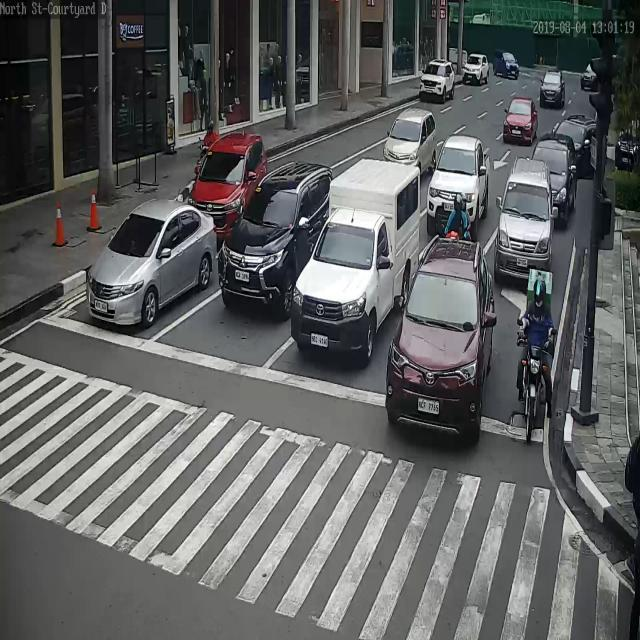car: (386, 236, 494, 433), (219, 165, 334, 318), (87, 201, 218, 331), (183, 132, 268, 241), (491, 157, 556, 283), (428, 135, 490, 218), (531, 135, 578, 210), (384, 109, 437, 174), (554, 115, 598, 175), (419, 61, 456, 102), (502, 98, 535, 140), (618, 116, 640, 173), (539, 66, 566, 111), (492, 48, 519, 79), (461, 55, 489, 84), (580, 59, 603, 94)
jeepney: (519, 273, 555, 430), (446, 191, 472, 241), (195, 119, 217, 178)
van: (293, 161, 422, 350)
